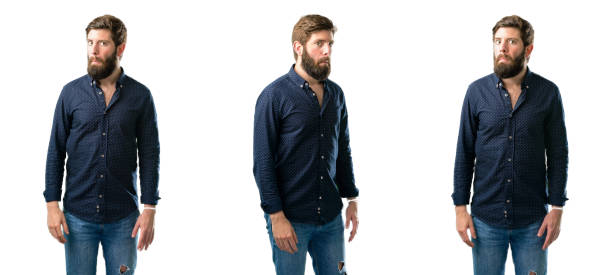Male: (239, 12, 379, 275), (40, 13, 166, 275), (454, 13, 578, 275)
